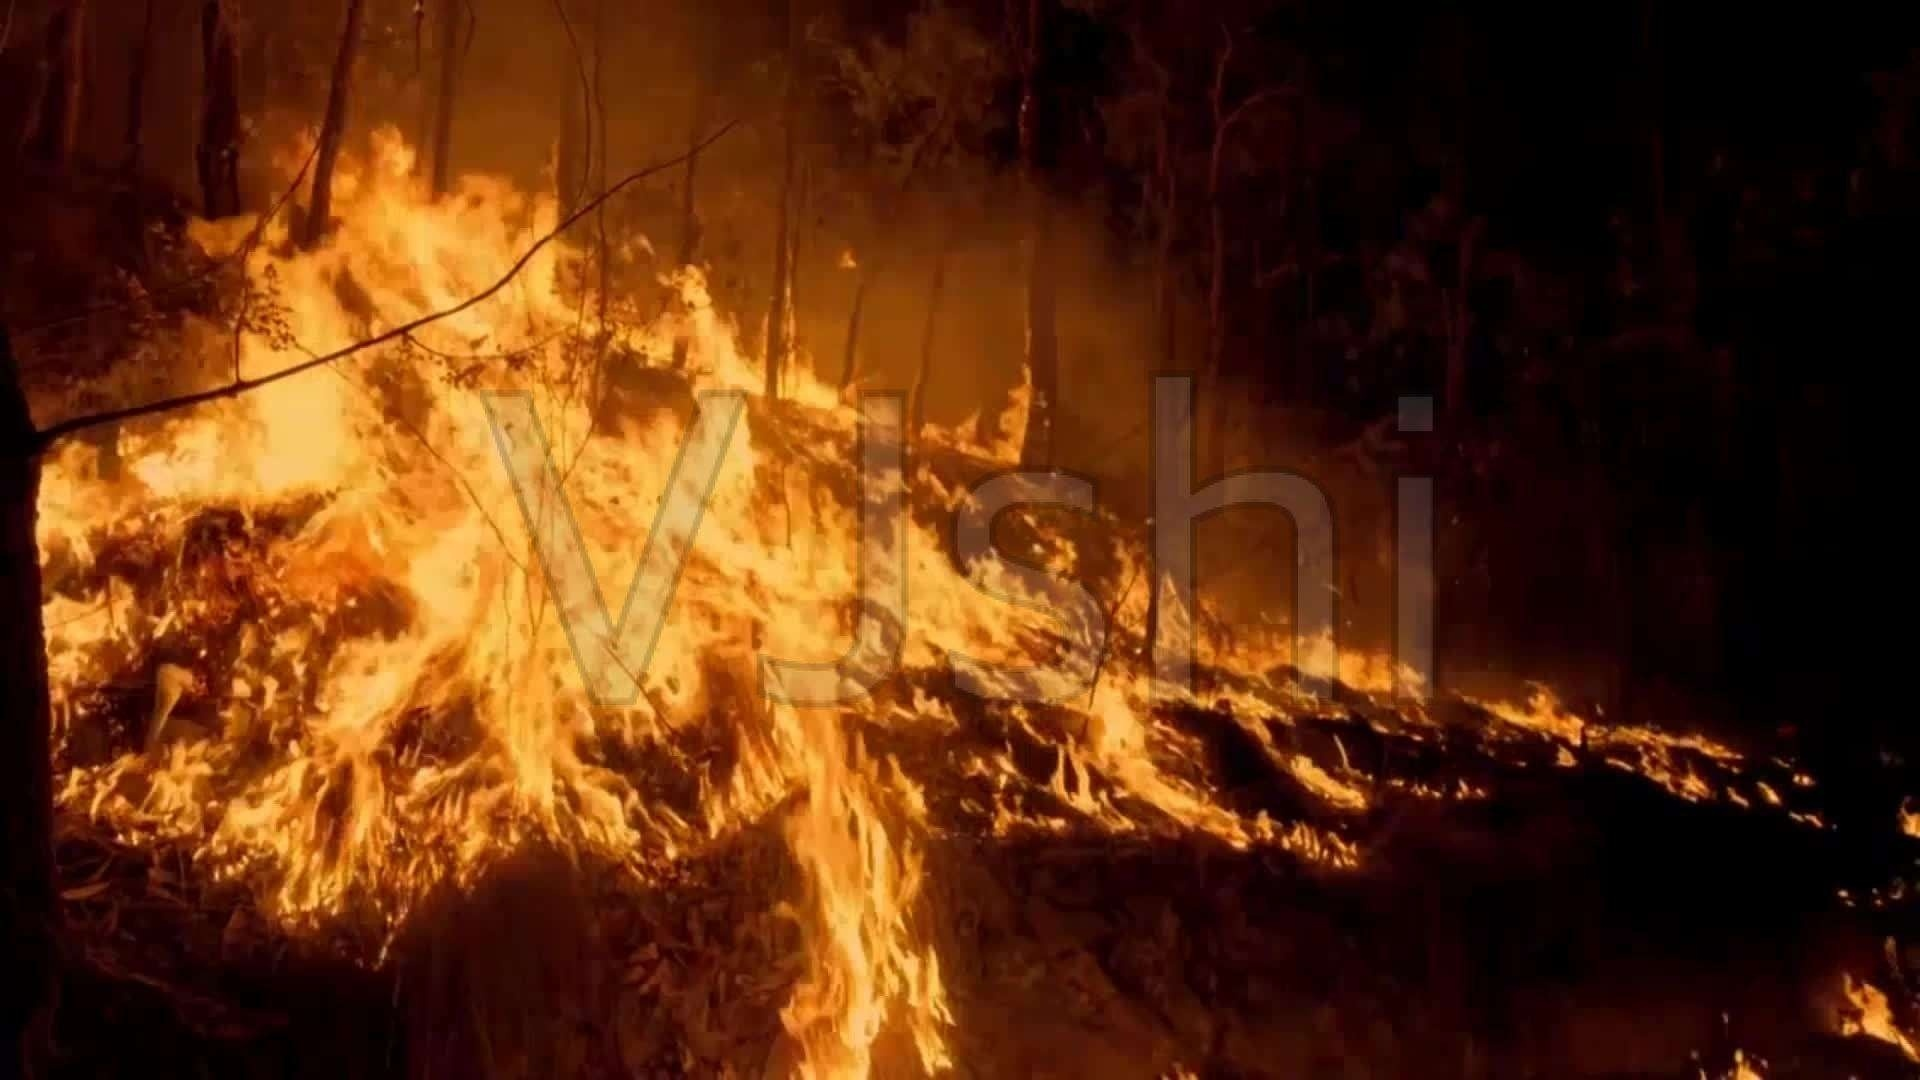fire: (82, 135, 1753, 1080)
